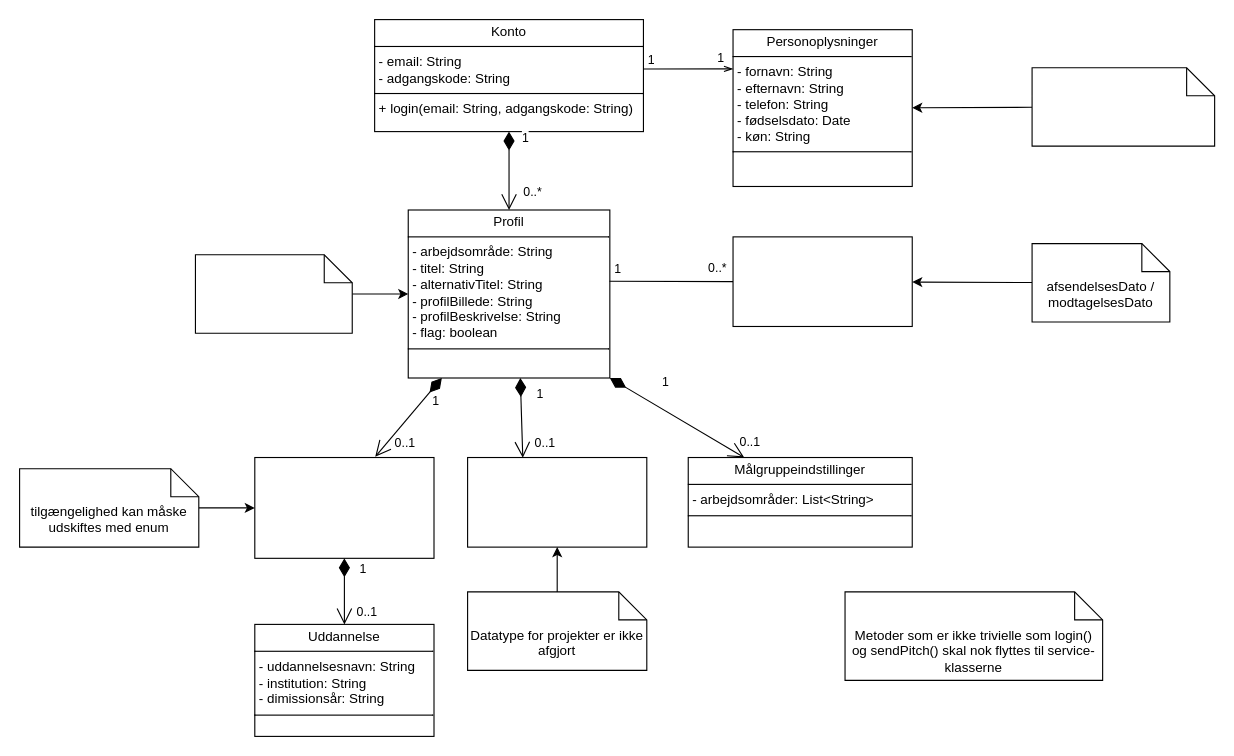
The diagram is 1234 pixels wide and 756 high, and some of its shapes have lost their labels. The shapes that lost their labels are listed below. From the top down, each one's centre as x and y in pixels, then its label:
At point 1123,106: "Datatype for køn kan måske udskiftes med enum".
At point 273,293: "Datatype for profilbillede er ikke afgjort".
At point 822,281: "Pitch - afsendelsesDato: Date + sendPitch(pitch: String)".
At point 344,507: "Nøgleord - tilgængelighed: String - årsErfaring: int".
At point 556,501: "Portfolio - projekter: List<String>".
